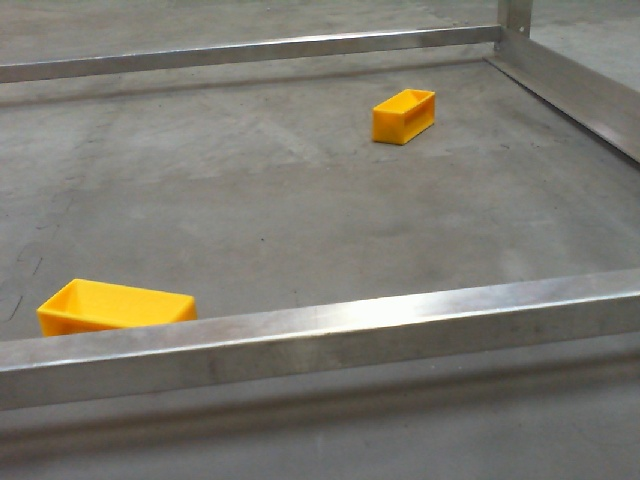YellowSample: (33, 276, 200, 342), (367, 86, 441, 151)
